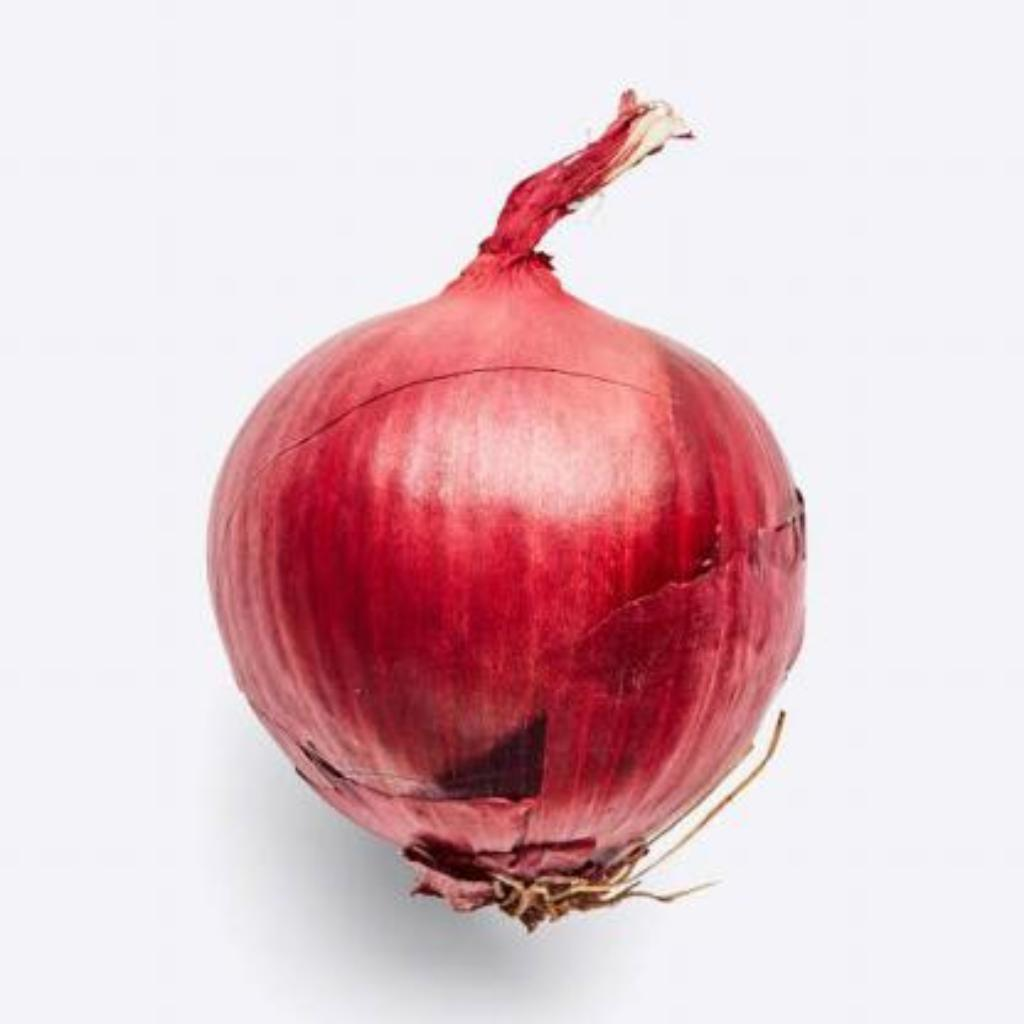Onion: (209, 91, 807, 932)
